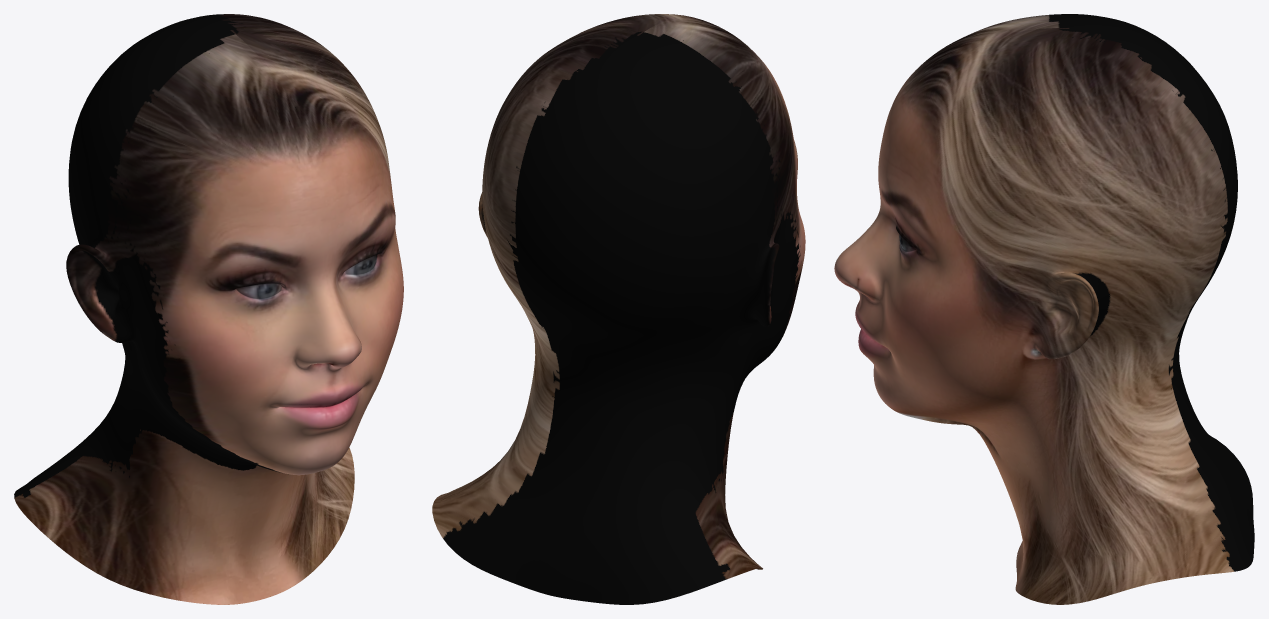
The model's file is head.glb.
3 views of the same model, side by side, from view 1: azimuth 30°, elevation 25°; view 2: azimuth 150°, elevation 25°; view 3: azimuth 270°, elevation 25° (orthographic). The views are drawn at different scales.
Visible parts, largest first — view 1: FBHead; view 2: FBHead; view 3: FBHead.
Boxes of the visible parts, box(x1,y1,x2,y2) form: FBHead: box(14, 14, 403, 604); FBHead: box(432, 14, 805, 604); FBHead: box(834, 14, 1254, 604).
Size of the model in its own units: 1.82 by 3.02 by 2.09.
Materials: 1 (1 with a texture image).
